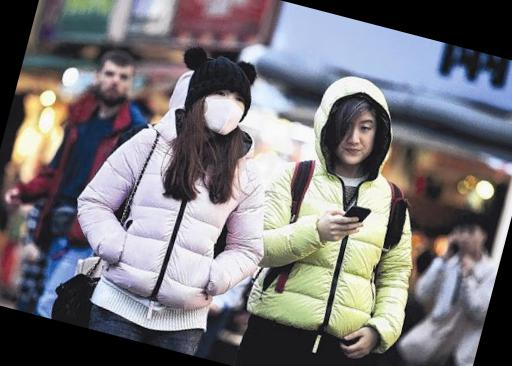with_mask: (197, 85, 248, 138)
without_mask: (333, 110, 380, 168), (95, 63, 133, 106), (455, 226, 483, 258)
